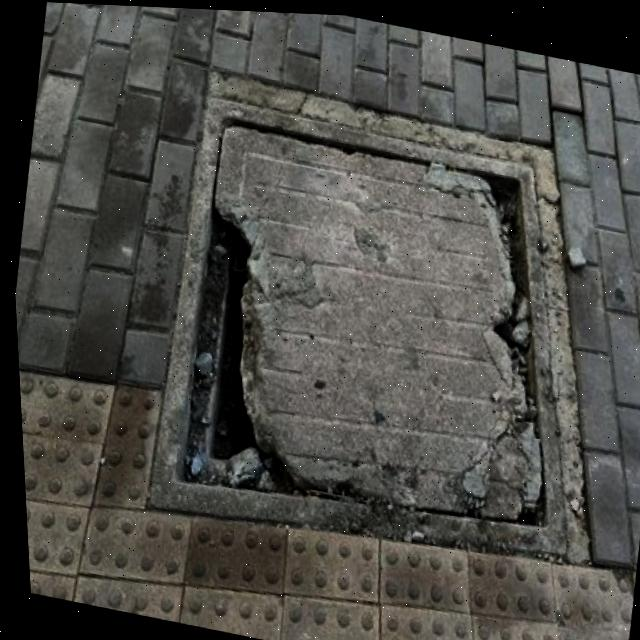manhole: (110, 46, 640, 565)
